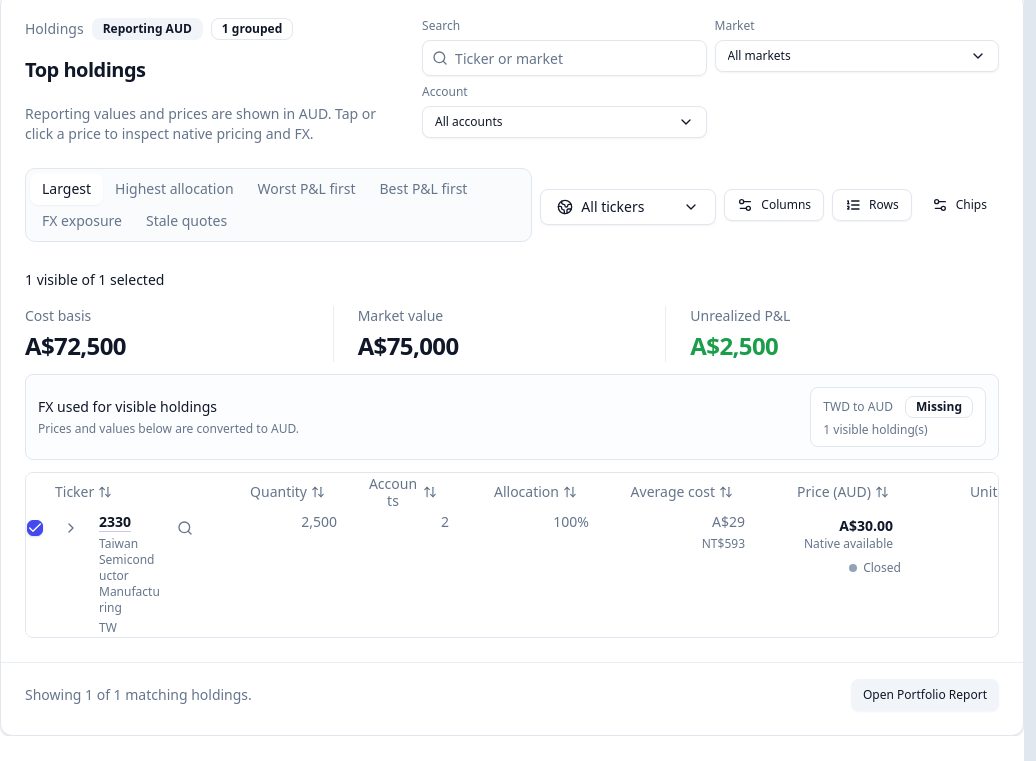
dashboard components › expands holding focus account rows on desktop table
Click the button with test id "dashboard-holding-expand-2330-TW" at (71, 528), box [51, 512, 91, 544]
(page scrolled)
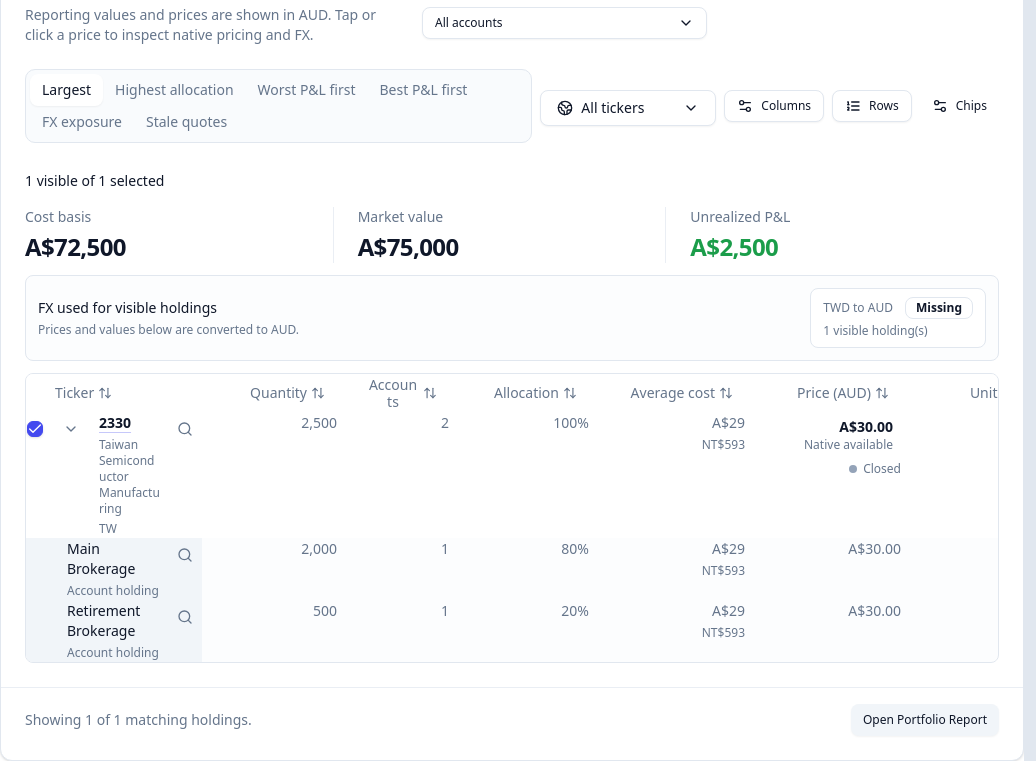
Expected: the text "Main Brokerage" is shown, [67, 539, 135, 578]
Expected: the text "Retirement Brokerage" is shown, [67, 601, 140, 640]
Expected: the text "Account holding" is shown, [67, 583, 161, 599]
